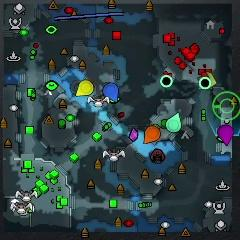p1: (103, 82, 119, 102)
p2: (166, 112, 182, 133)
p2Clone: (160, 74, 173, 87), (199, 77, 211, 89)
p3: (218, 125, 235, 146)
p4: (76, 81, 93, 97)
p5: (144, 125, 161, 144)
x2: (206, 72, 216, 88)
